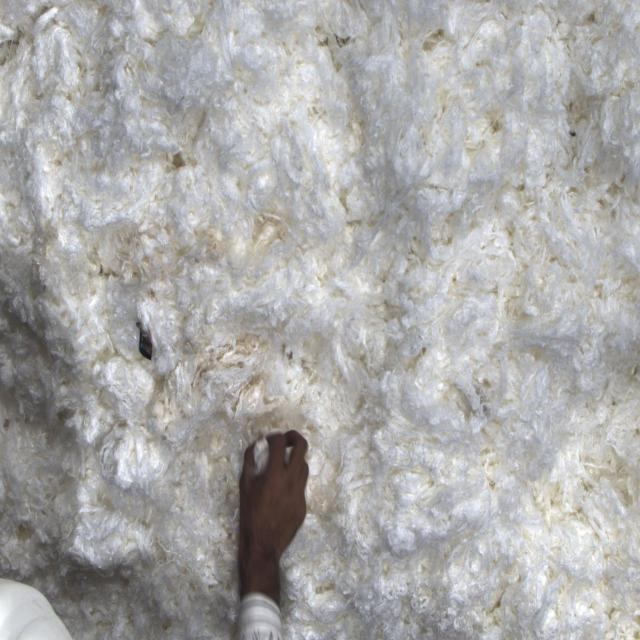dust: (127, 301, 171, 388)
